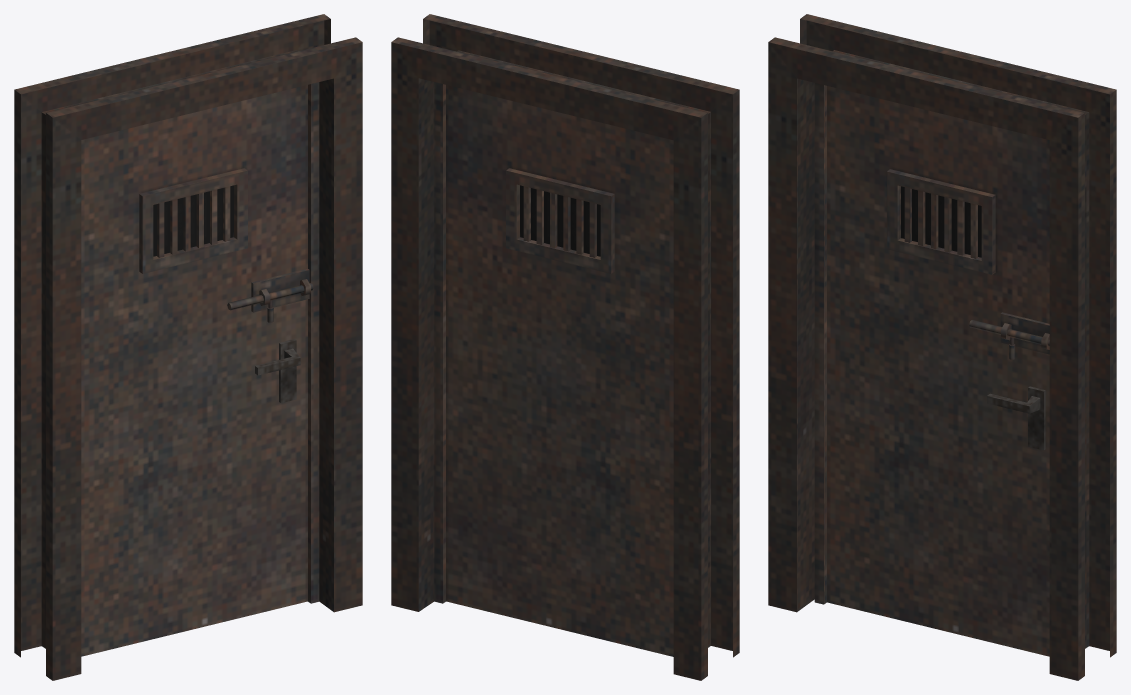
File: door_reinforced.fbx
3 views of the same model, side by side, from view 1: azimuth 30°, elevation 25°; view 2: azimuth 150°, elevation 25°; view 3: azimuth 330°, elevation 25° (orthographic).
Visible parts, largest first — view 1: door_reinforced, door_reinforced_arc; view 2: door_reinforced, door_reinforced_arc; view 3: door_reinforced, door_reinforced_arc.
Boxes of the visible parts, left/top/right/bottom form: door_reinforced: left=81, top=82, right=319, bottom=656; door_reinforced_arc: left=14, top=14, right=362, bottom=680; door_reinforced: left=434, top=82, right=673, bottom=656; door_reinforced_arc: left=391, top=14, right=739, bottom=680; door_reinforced: left=814, top=83, right=1049, bottom=656; door_reinforced_arc: left=768, top=14, right=1116, bottom=680.
Size of the model in its own units: 121 by 210 by 26.01.
1 material, 1 textured.
